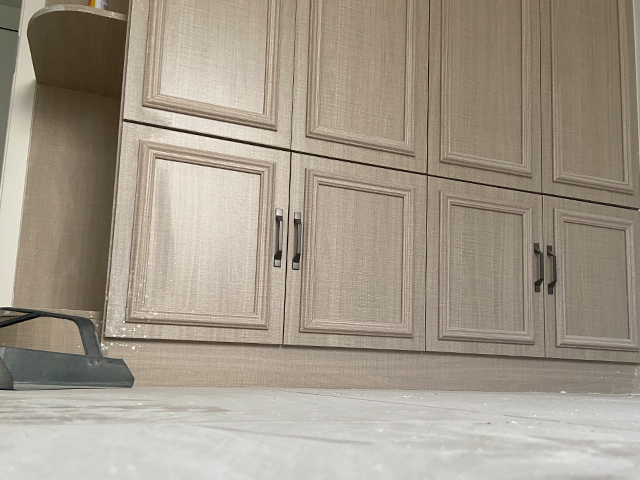cabinet: (1, 1, 640, 398)
